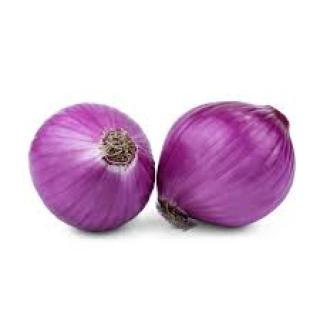Bawang Merah: (156, 100, 299, 232), (26, 101, 158, 239)
